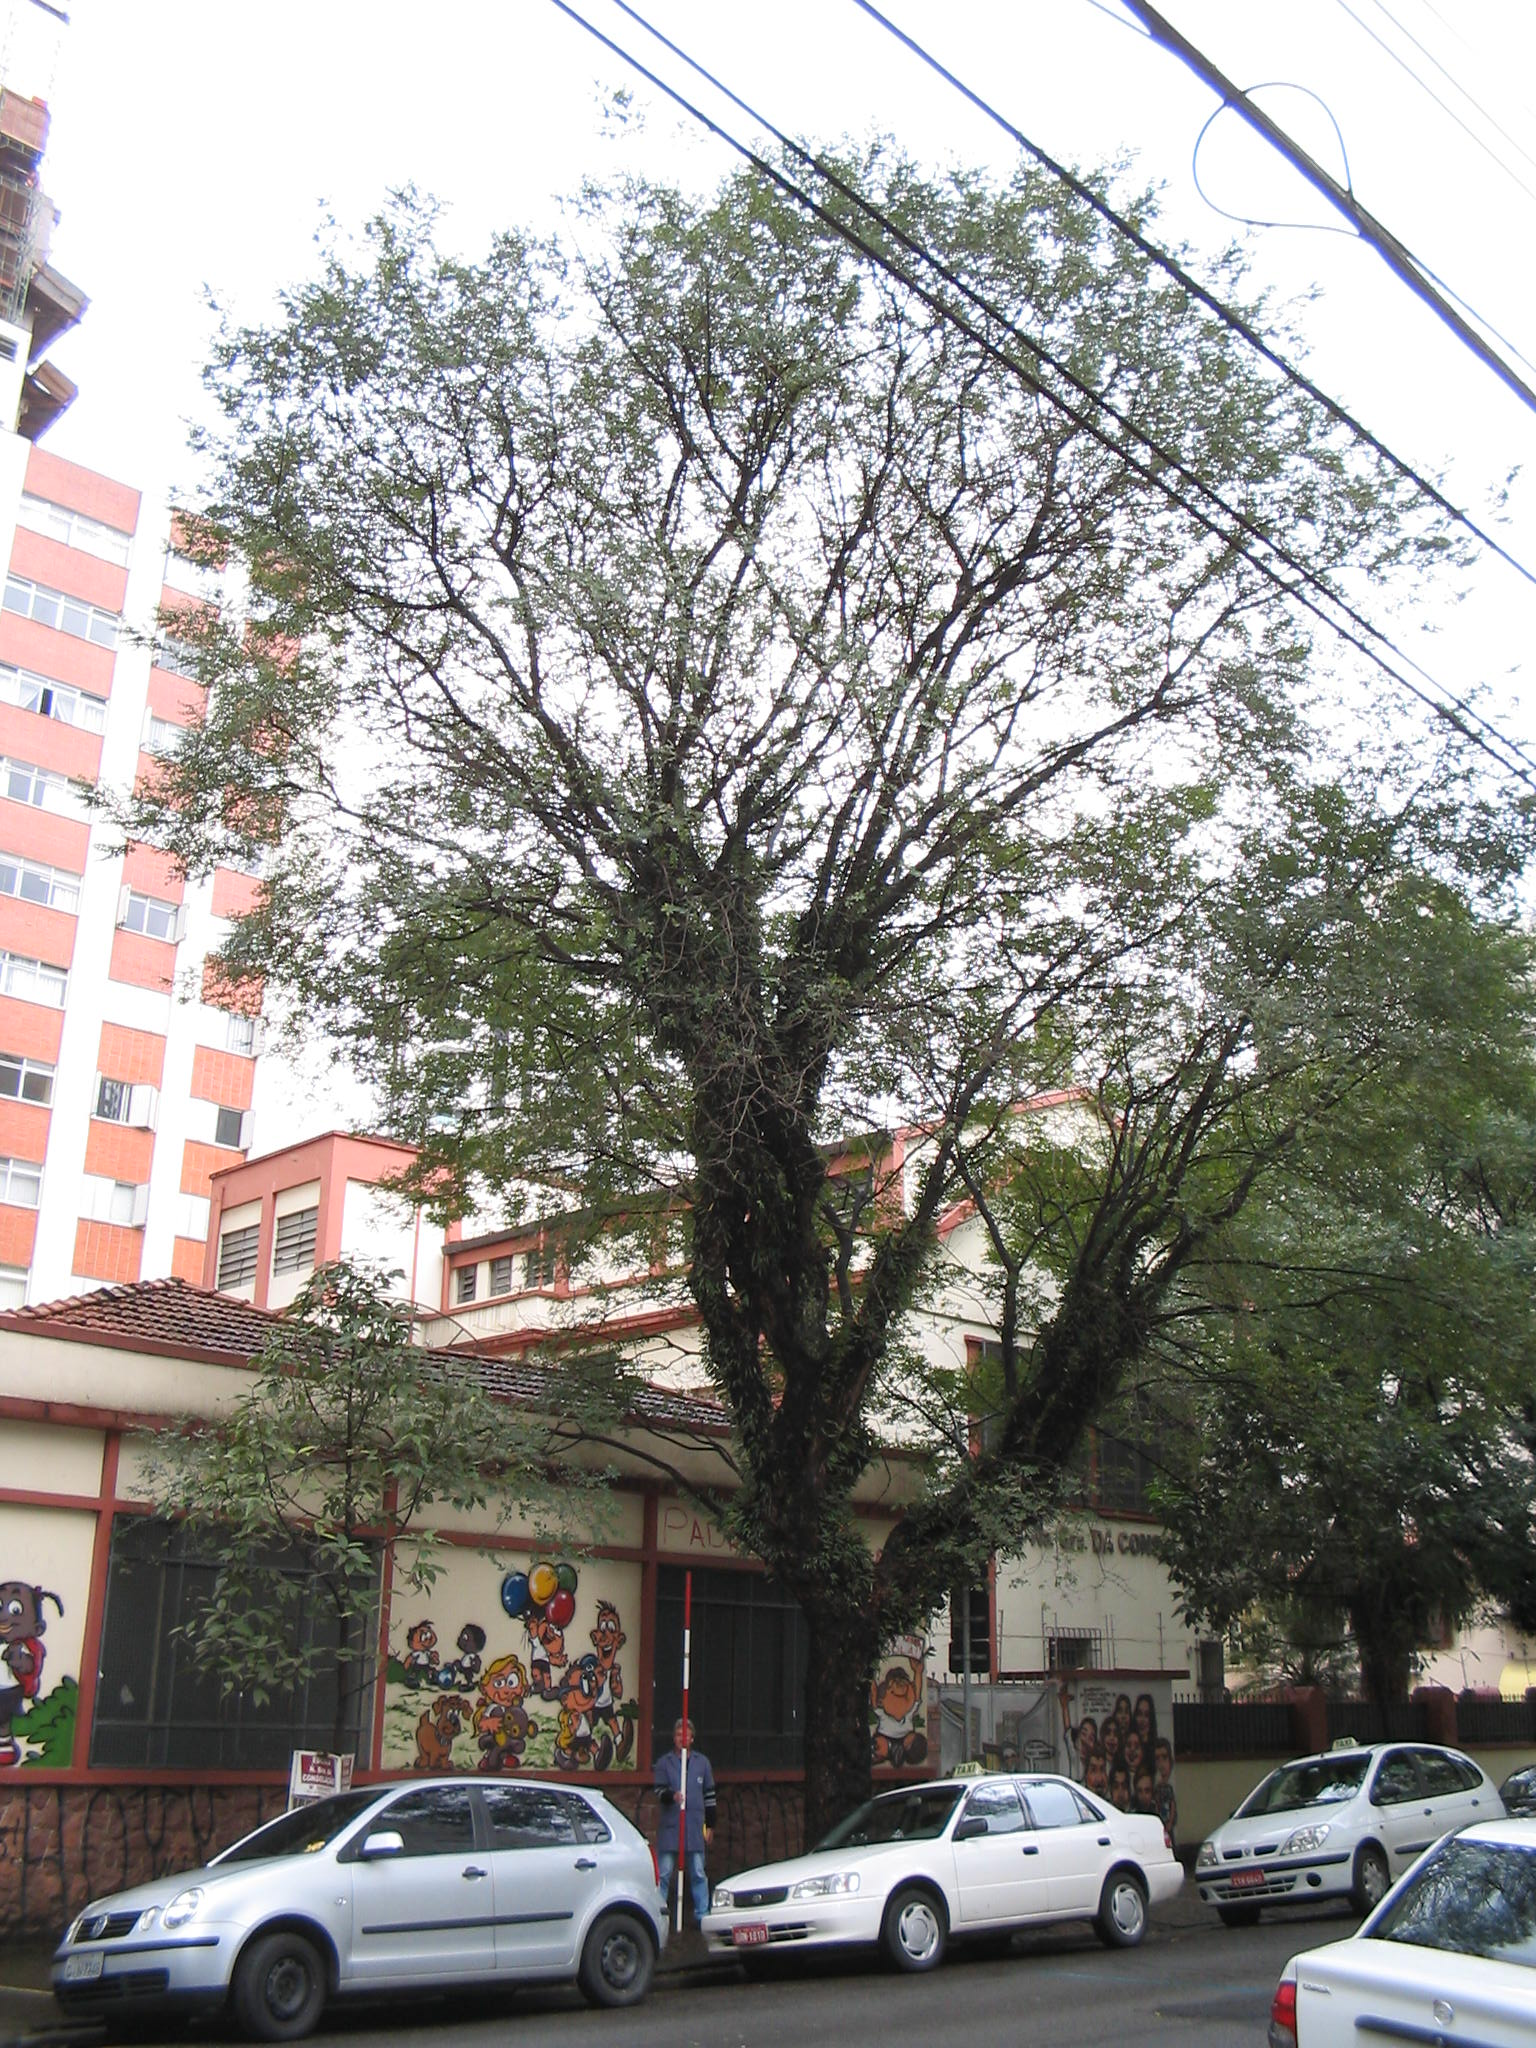crown: (82, 100, 1339, 1517), (1181, 884, 1531, 1695)
stem: (774, 1634, 907, 1932)
stick: (660, 1563, 702, 1943)
tree: (77, 95, 1341, 1937), (1173, 876, 1533, 1850)
